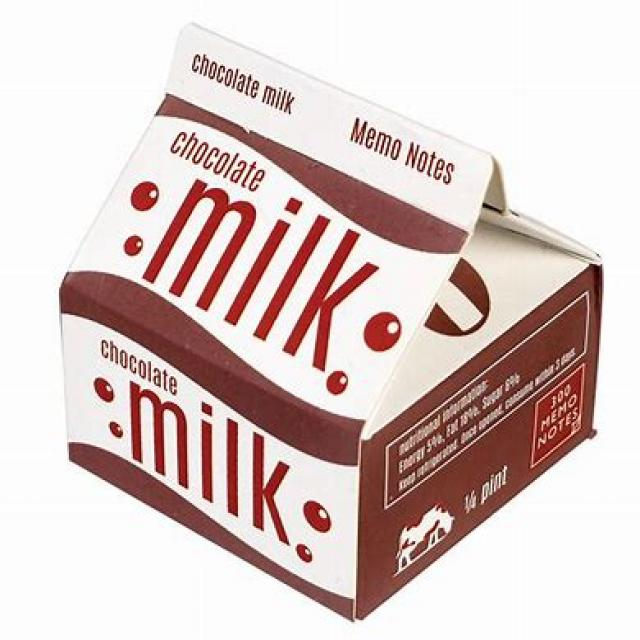non_white_jug: (54, 13, 601, 625)
